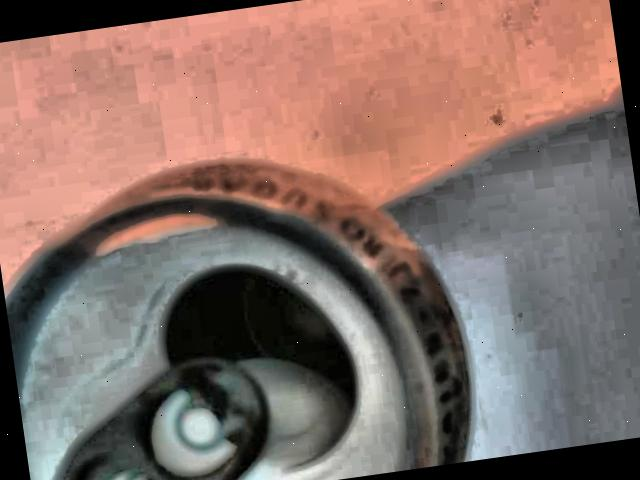Bottles: (0, 116, 488, 480)
